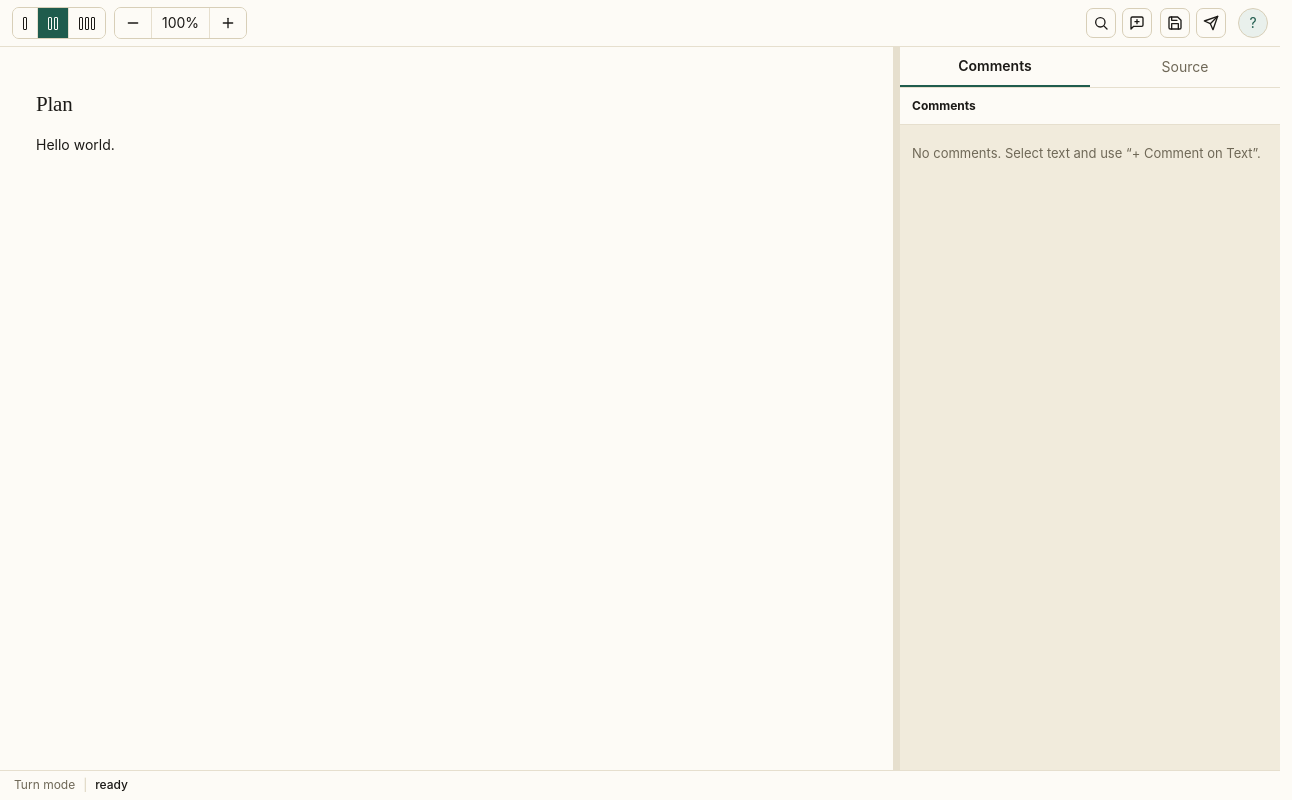
Scenario: App undo/redo + Escape shortcuts (memory-backed) › Ctrl+Z works too (non-mac modifier path)
Click the button named "comment on doc" at {"x": 1137, "y": 23}, box top-left (1122, 8), bottom-right (1152, 38)
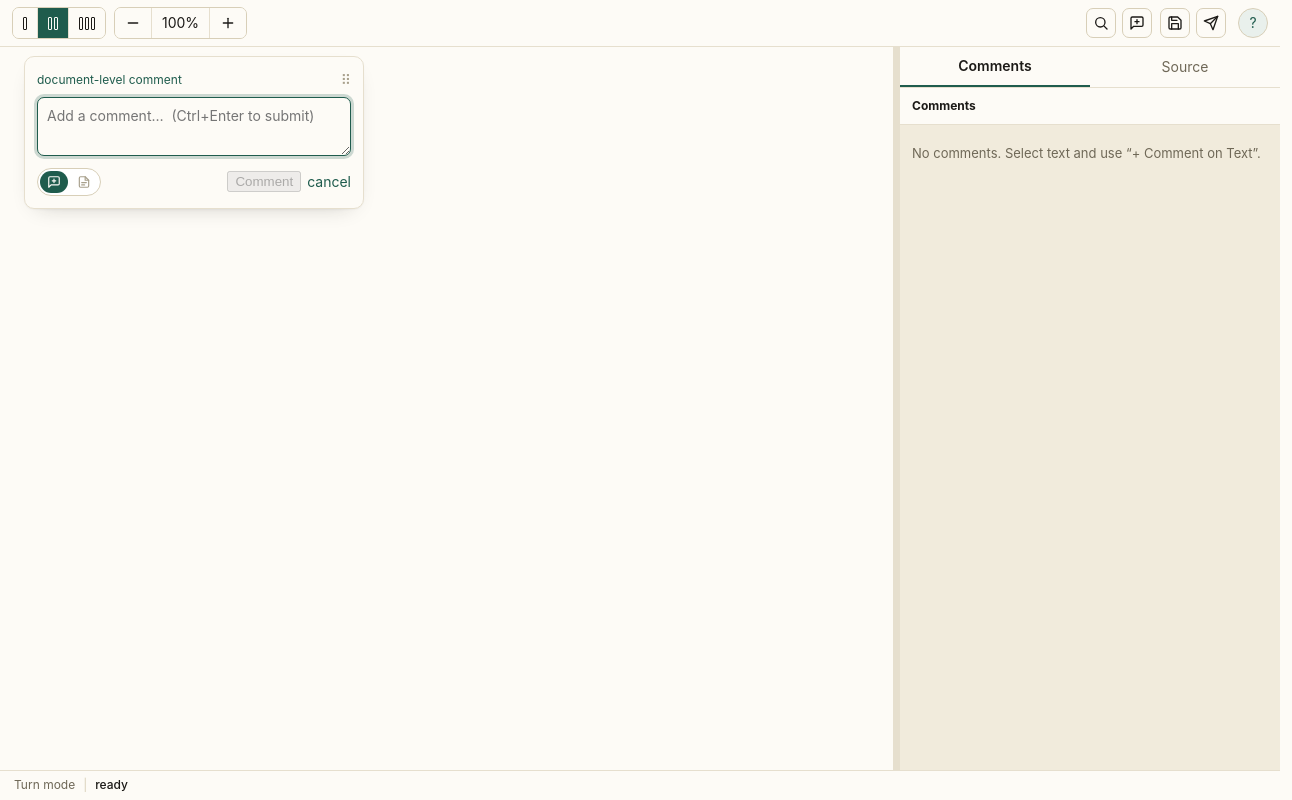
Type "Ctrl note" into the dropdown with placeholder "Add a comment… (Ctrl+Enter to submit)" at {"x": 194, "y": 126}, box top-left (37, 97), bottom-right (351, 156)
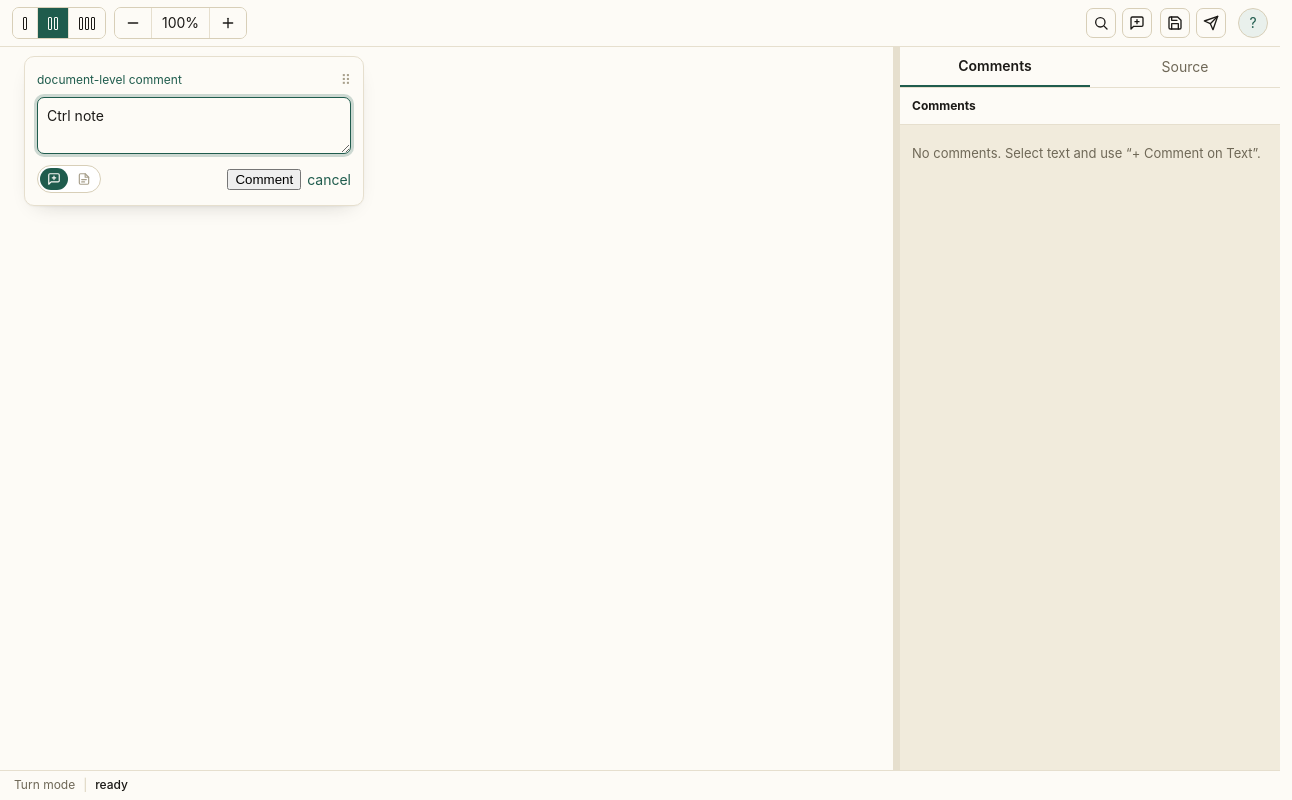
Click the button "Comment" at {"x": 264, "y": 179}, box top-left (227, 169), bottom-right (301, 190)
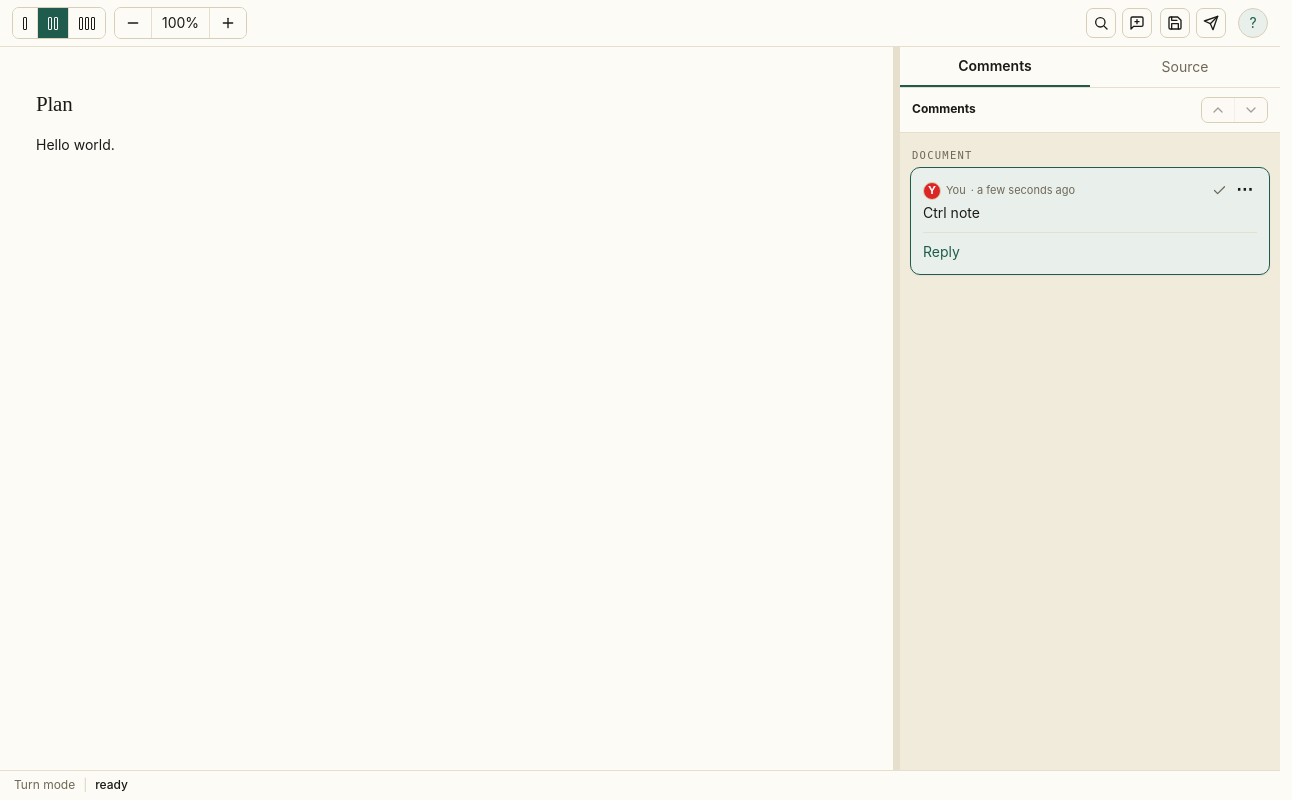
Now the text "Ctrl note" is shown, box top-left (923, 204), bottom-right (980, 221)
Press z
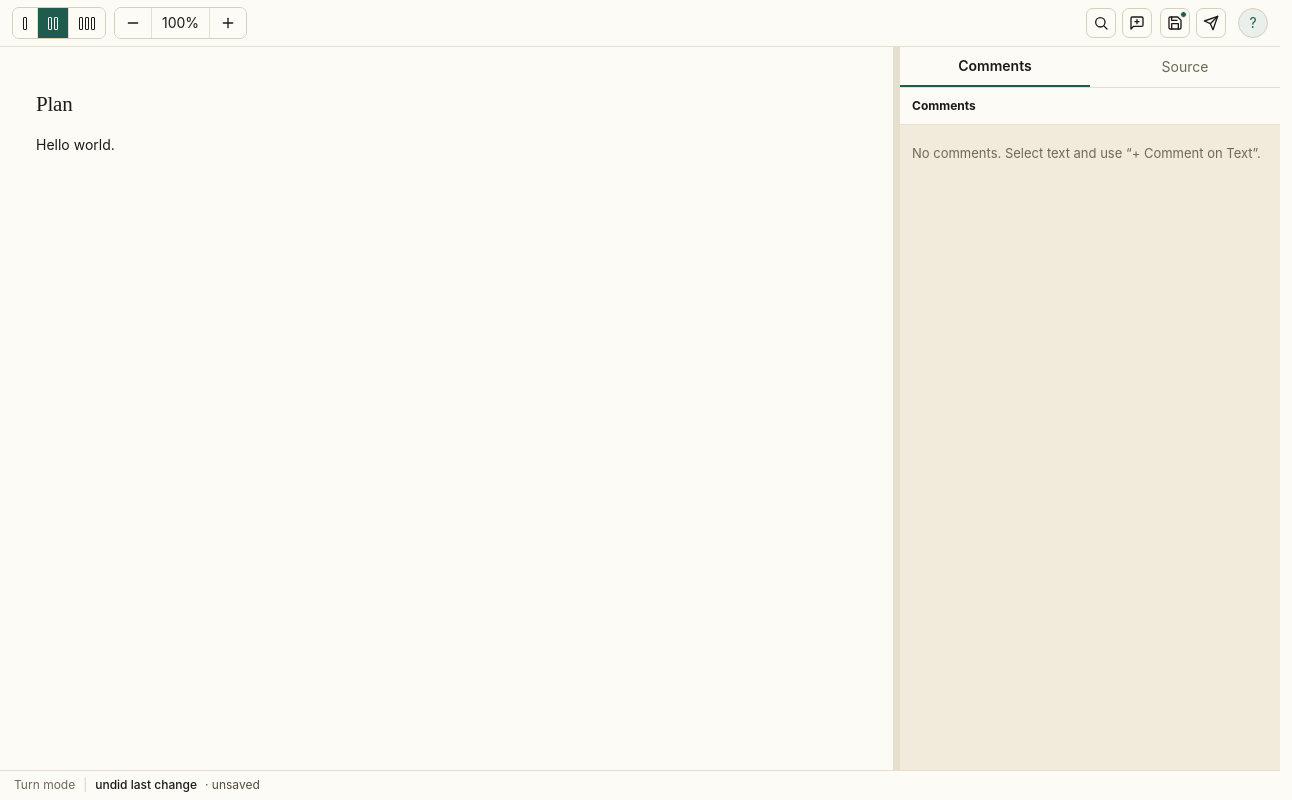
Now the text "undid last change" is shown, box top-left (95, 776), bottom-right (197, 795)
Now the text "Ctrl note" is gone
